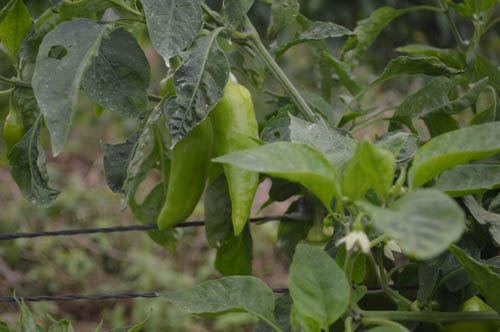ChiliPepper: (211, 87, 258, 236), (158, 124, 209, 240)
